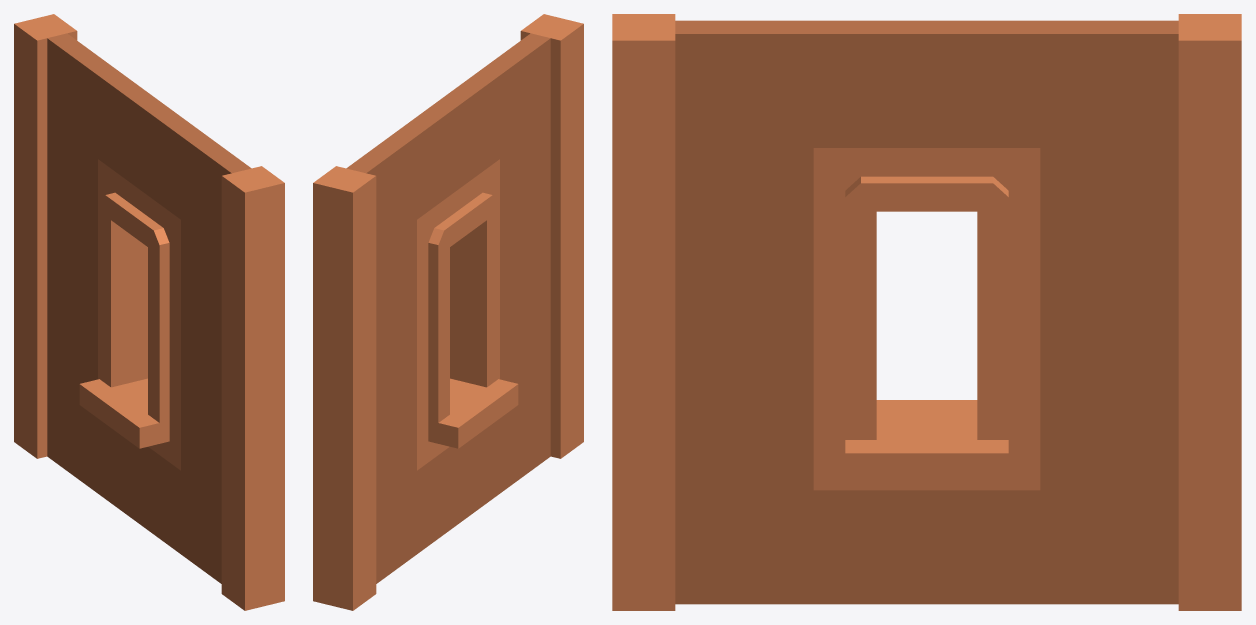
The model's file is wallWoodWindowSmall.obj.
3 views of the same model, side by side, from view 1: azimuth 30°, elevation 25°; view 2: azimuth 150°, elevation 25°; view 3: azimuth 270°, elevation 25° (orthographic). The views are drawn at different scales.
Visible parts, largest first — view 1: wallWoodWindowSmall; view 2: wallWoodWindowSmall; view 3: wallWoodWindowSmall.
Part boxes in pixels (x1,y1,x2,y2): wallWoodWindowSmall: (14, 14, 284, 610); wallWoodWindowSmall: (313, 14, 583, 610); wallWoodWindowSmall: (612, 14, 1241, 610).
Size of the model in its own units: 0.2 by 1 by 1.
